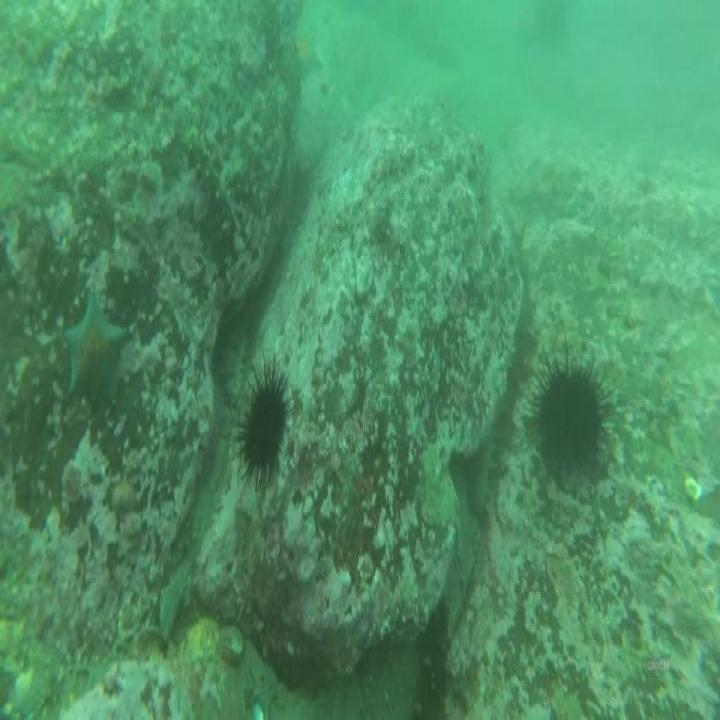echinus: (535, 367, 604, 470), (238, 377, 286, 475)
holothurian: (187, 124, 243, 234)
starfish: (68, 294, 126, 406), (298, 30, 320, 76)
